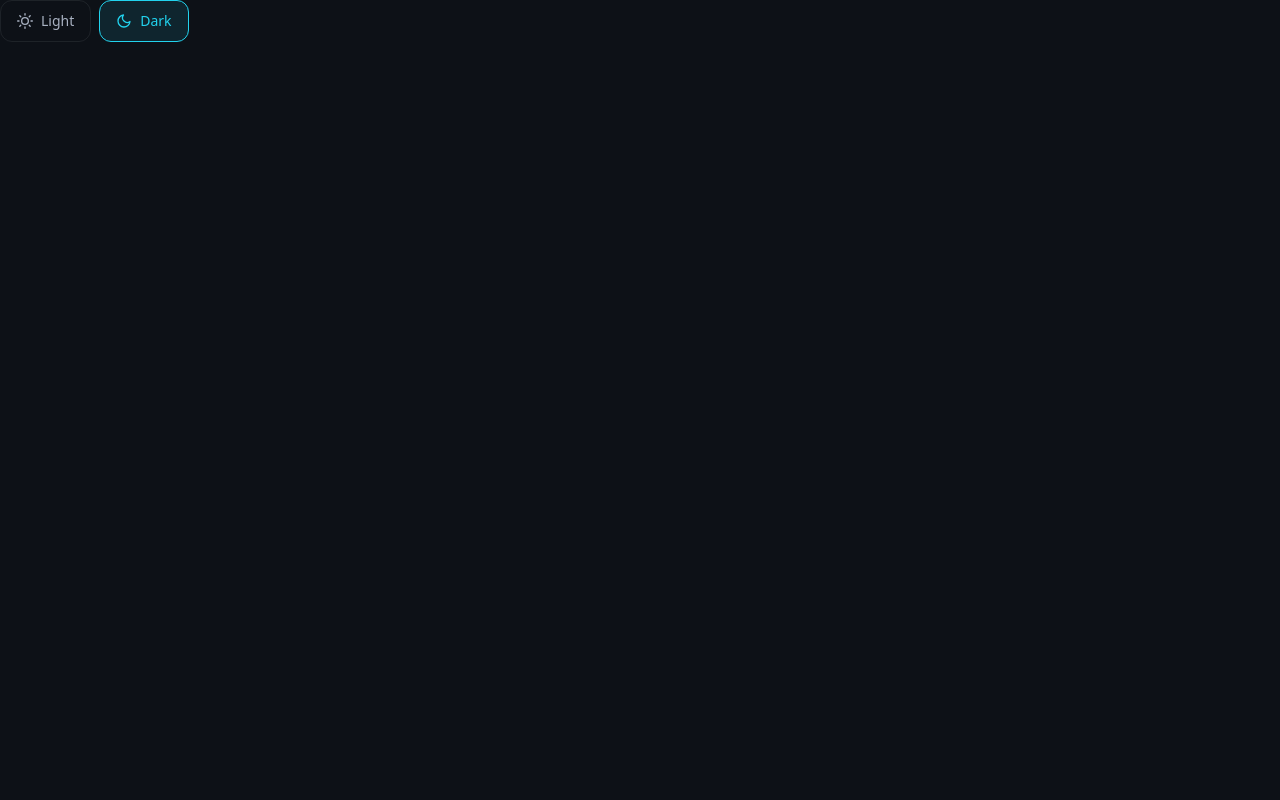
Test: ThemeSwitch: pressed state › flips both buttons, the class and the stored theme on click
Click the button "Light" at (46,21), box [0,0,91,42]
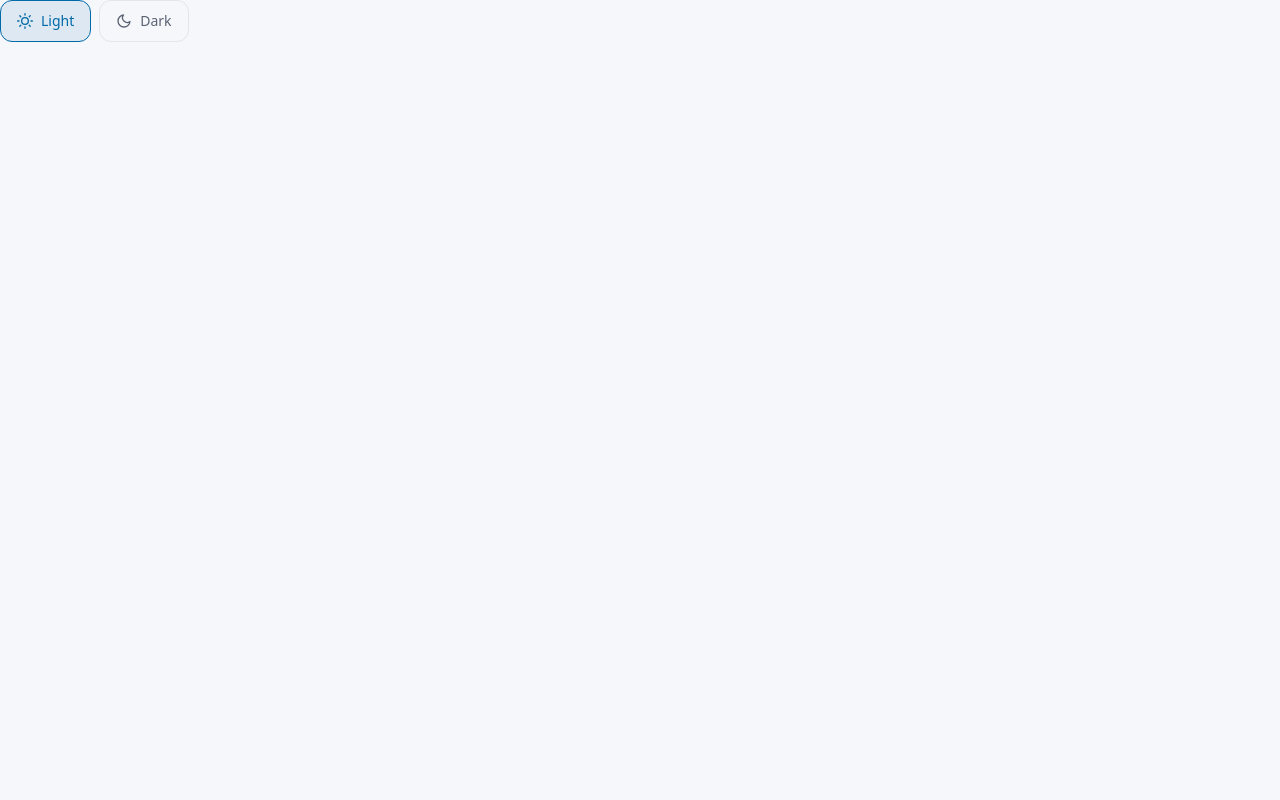
Now the button "Light" is pressed, box [0,0,91,42]
Now the button "Dark" is not pressed
Click the button "Dark" at (144,21), box [99,0,189,42]
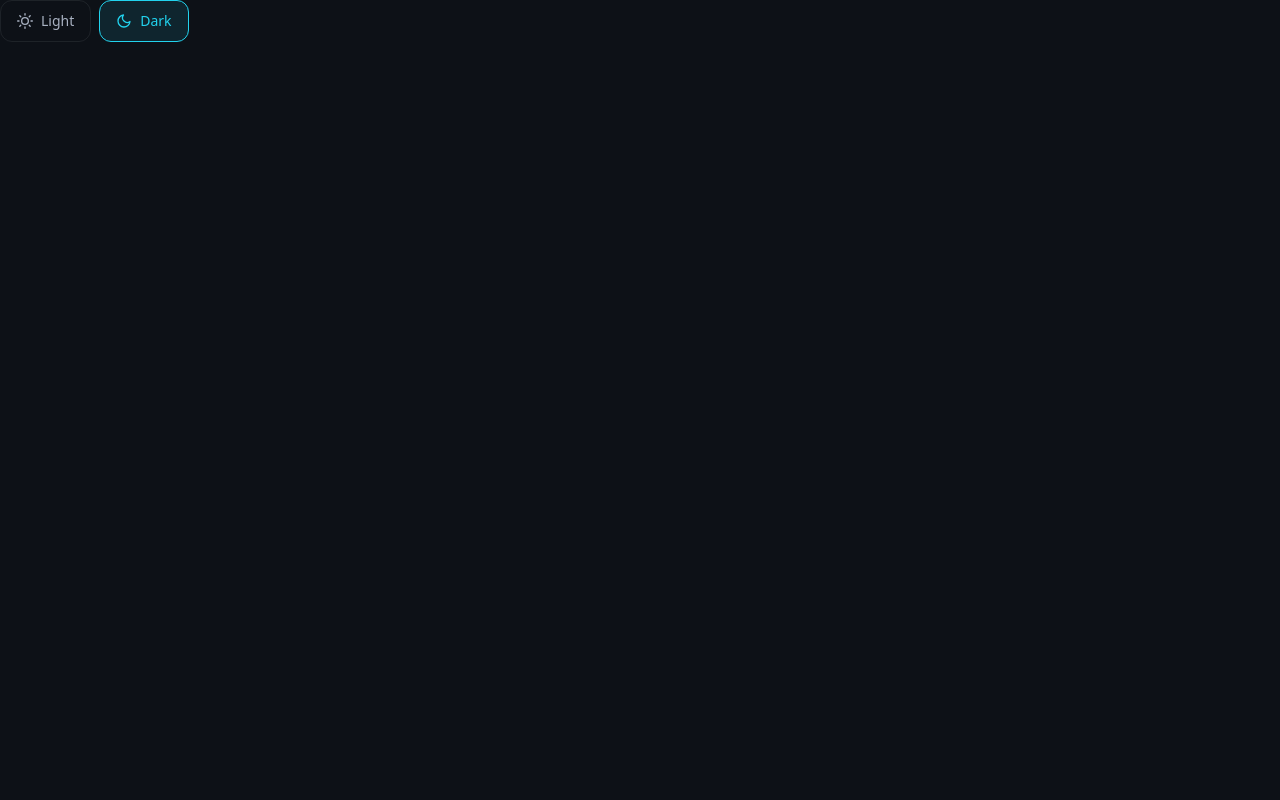
Now the button "Dark" is pressed, box [99,0,189,42]
Now the button "Light" is not pressed, box [0,0,91,42]
